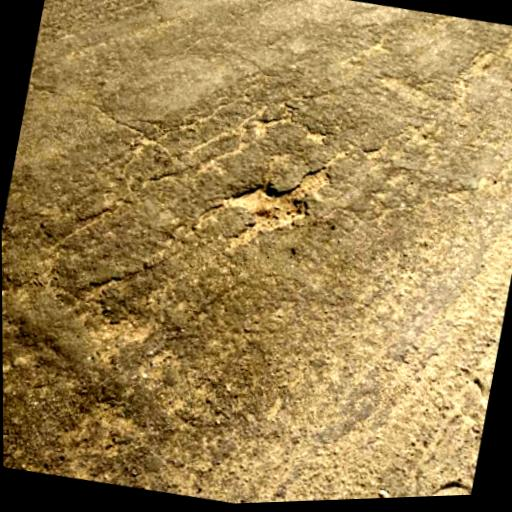pothole: (214, 171, 315, 242), (297, 162, 336, 195)
